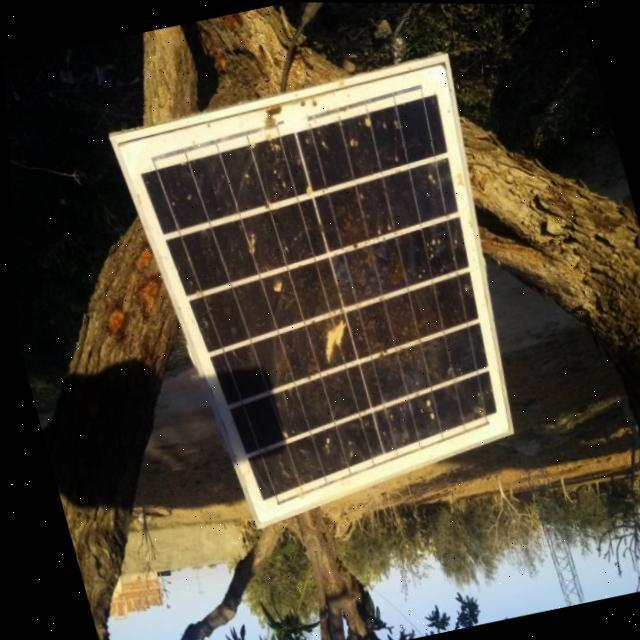Anomaly Solar Panel: (128, 85, 510, 487)
Surface Contaminant: (310, 174, 490, 380), (263, 380, 490, 464), (235, 218, 353, 374), (255, 108, 416, 180), (148, 145, 268, 225)
